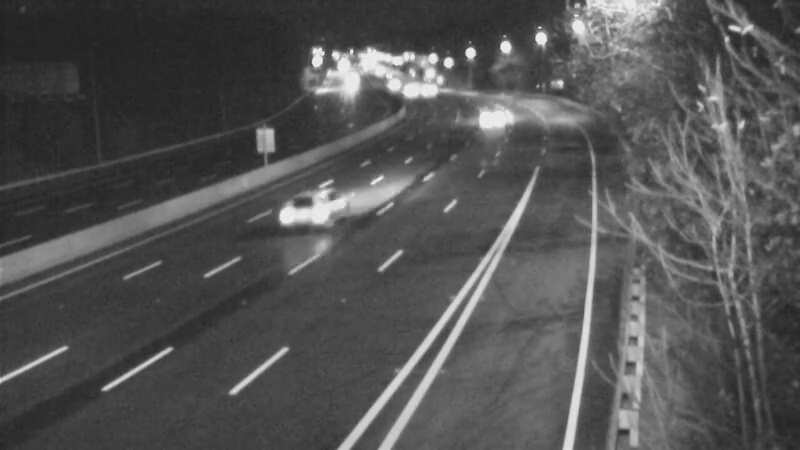vehicle: (270, 175, 350, 255), (403, 68, 453, 118), (366, 61, 416, 111), (386, 65, 436, 115), (466, 96, 516, 146), (327, 62, 377, 112)
